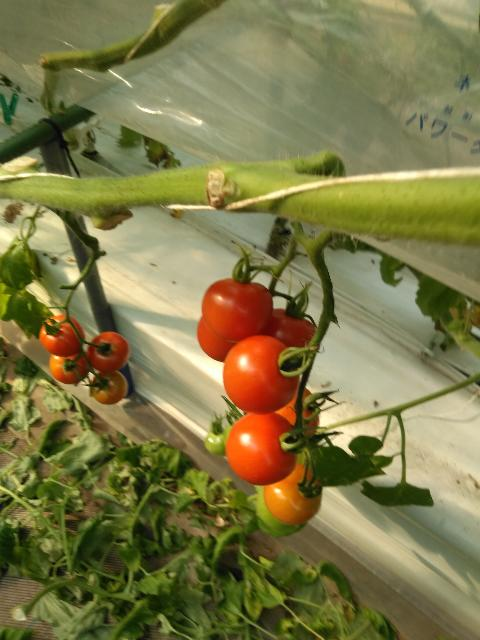l_fully_ripened: (223, 334, 300, 415), (226, 411, 298, 486), (202, 279, 273, 342), (262, 308, 317, 348), (197, 314, 236, 363), (39, 314, 84, 356), (87, 331, 130, 372)
l_half_ripened: (264, 463, 323, 525), (272, 385, 319, 441), (49, 349, 89, 384), (90, 370, 127, 405)
